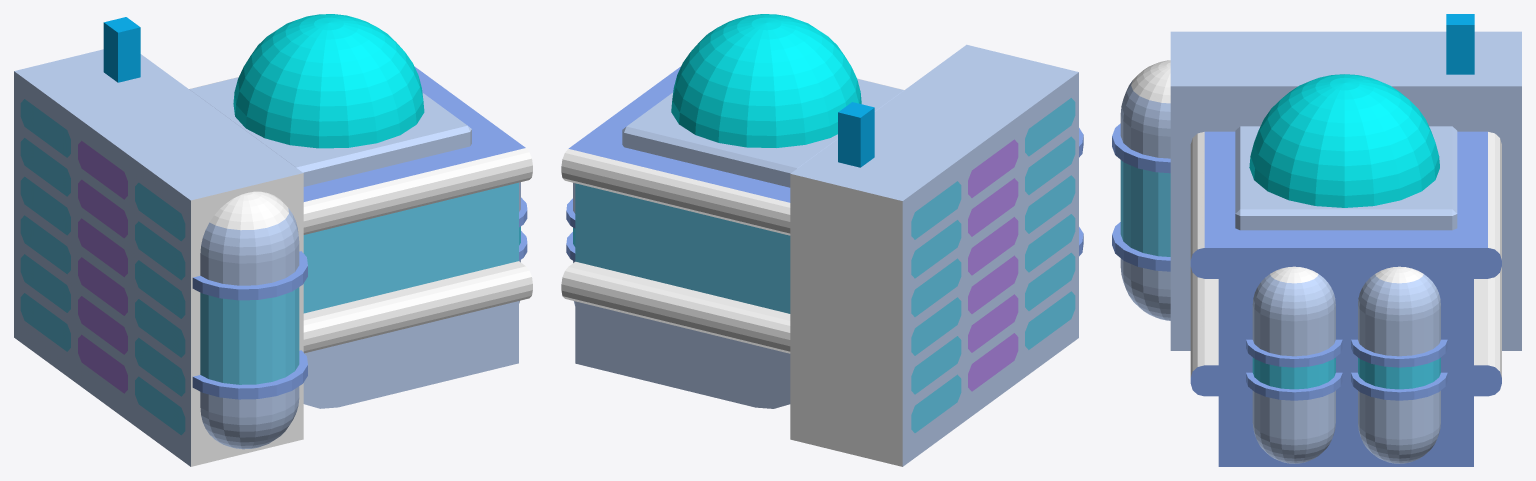
The model's file is Building_045.fbx.
3 views of the same model, side by side, from view 1: azimuth 30°, elevation 25°; view 2: azimuth 150°, elevation 25°; view 3: azimuth 270°, elevation 25° (orthographic).
Visible parts, largest first — view 1: Building_045; view 2: Building_045; view 3: Building_045.
Boxes of the visible parts, x1,y1,x2,y2 form: Building_045: (14,14,532,466); Building_045: (561,14,1083,466); Building_045: (1112,14,1521,466).
Bounding box in the file's own units: 43.63 × 34.43 × 39.63.
